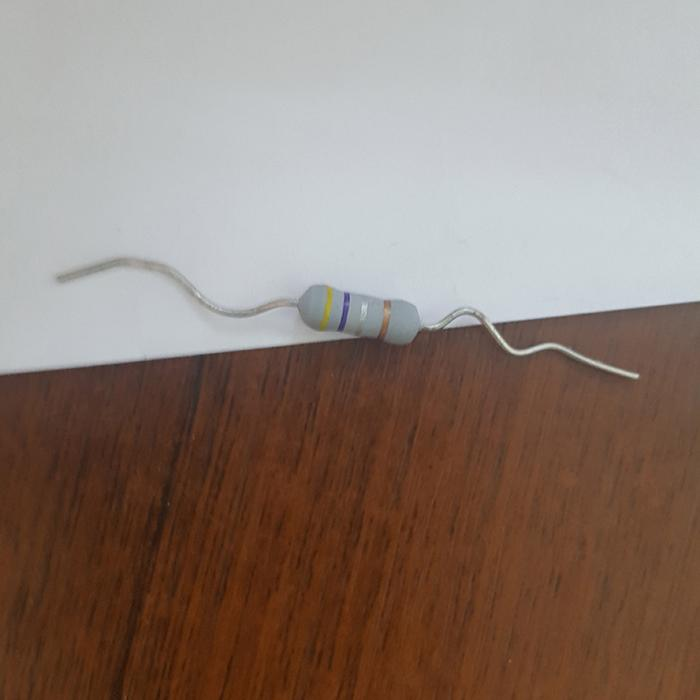resistor: (296, 281, 422, 345)
